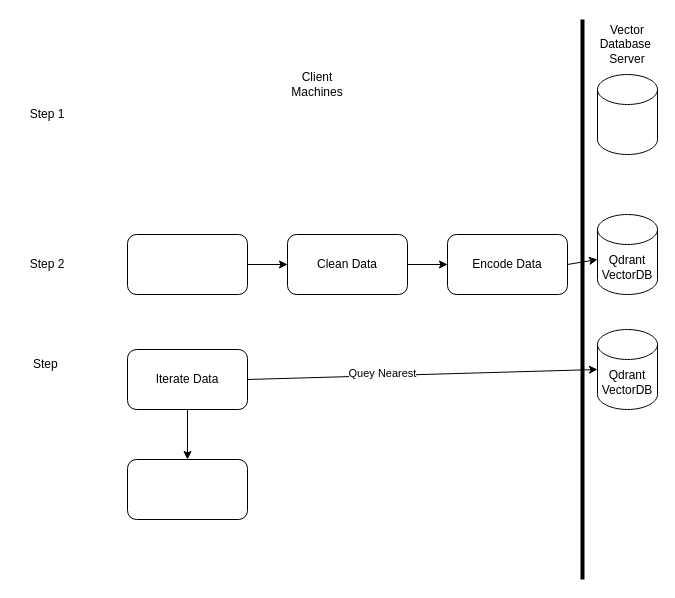
The diagram is 675 pixels wide and 598 high, and some of its shapes have lost their labels. The shapes that lost their labels are listed below. From the top down, each one's centre as x and y in pixels, then its label:
pixel 627 114: Deploy Qdrant VectorDB
pixel 187 264: Read Data
pixel 187 489: Write No-Duplicated Records
